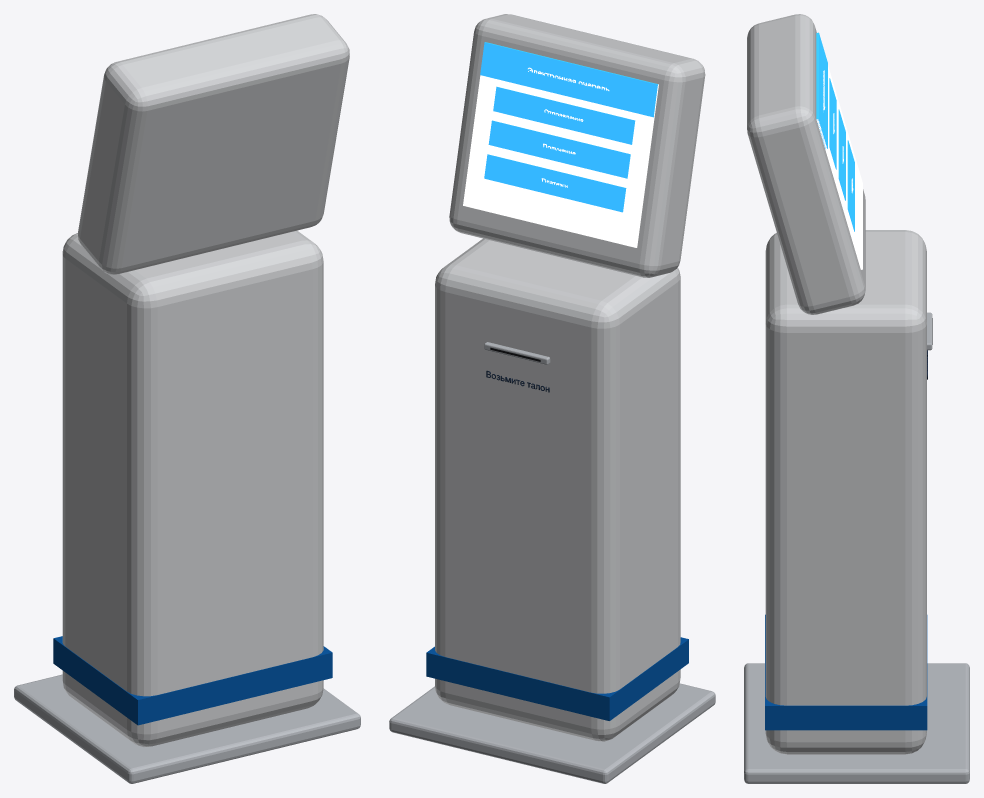
Rendered from queue-terminal.glb.
The picture shows the model from 3 angles, left to right: view 1: azimuth 30°, elevation 25°; view 2: azimuth 150°, elevation 25°; view 3: azimuth 270°, elevation 25°; orthographic projection. The views are drawn at different scales.
Parts seen in each view (by area): view 1: body; view 2: body; view 3: body.
Boxes of the visible parts, x1,y1,x2,y2 form: body: [14, 14, 360, 783]; body: [389, 14, 715, 783]; body: [744, 14, 969, 783].
Size of the model in its own units: 0.48 by 1.38 by 0.42.
